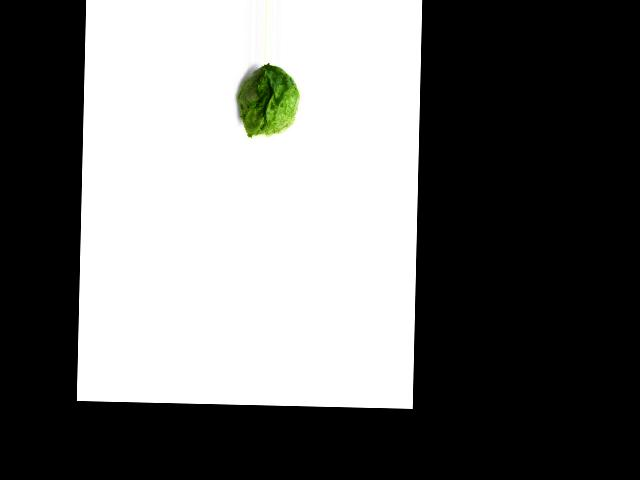lettuce: (233, 63, 304, 137)
